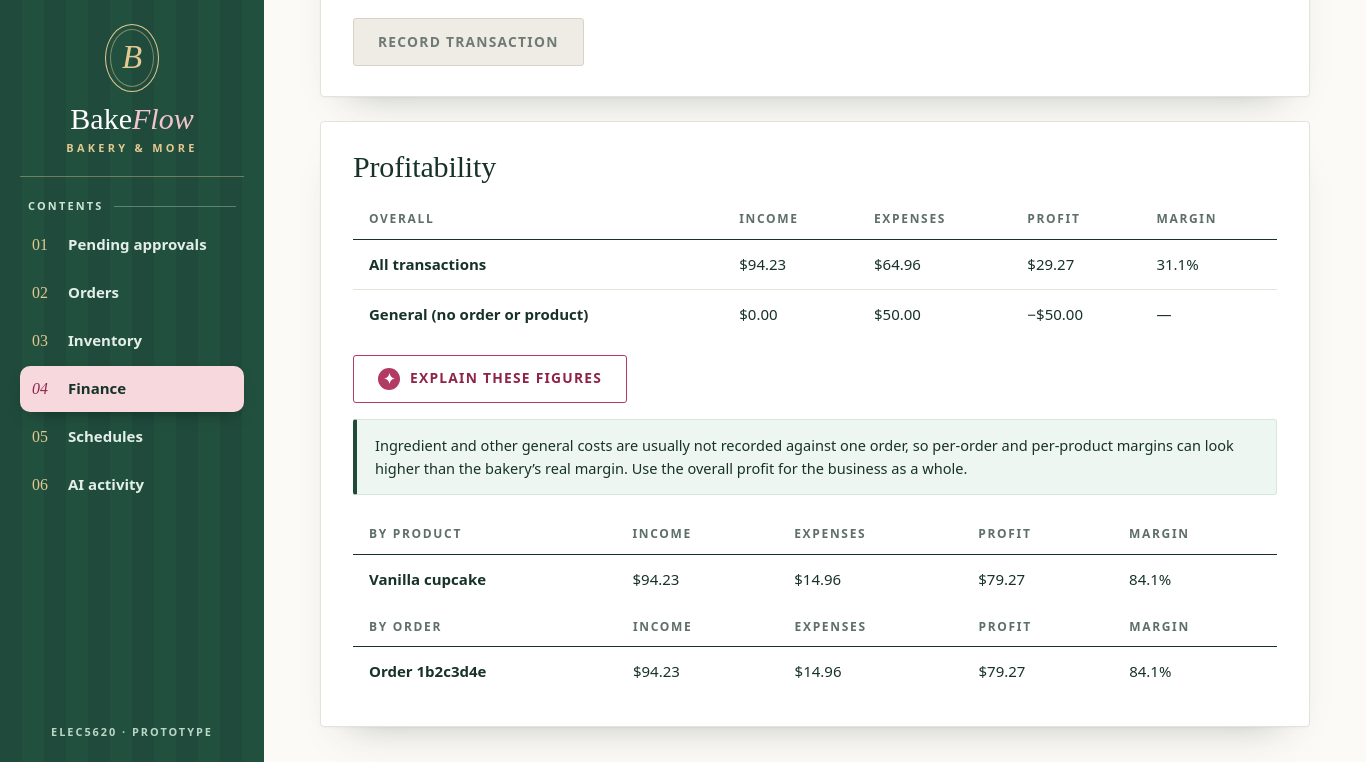
explains the figures only when asked, and keeps them when the explanation fails
This screenshot has width=1366, height=762.
(page scrolled)
expect the row "All transactions $94.23 $64.96 $29.27 31.1%" is shown: met, box [353,240,1277,289]
Click the button "Explain these figures" at (490, 379), box [353,355,627,403]
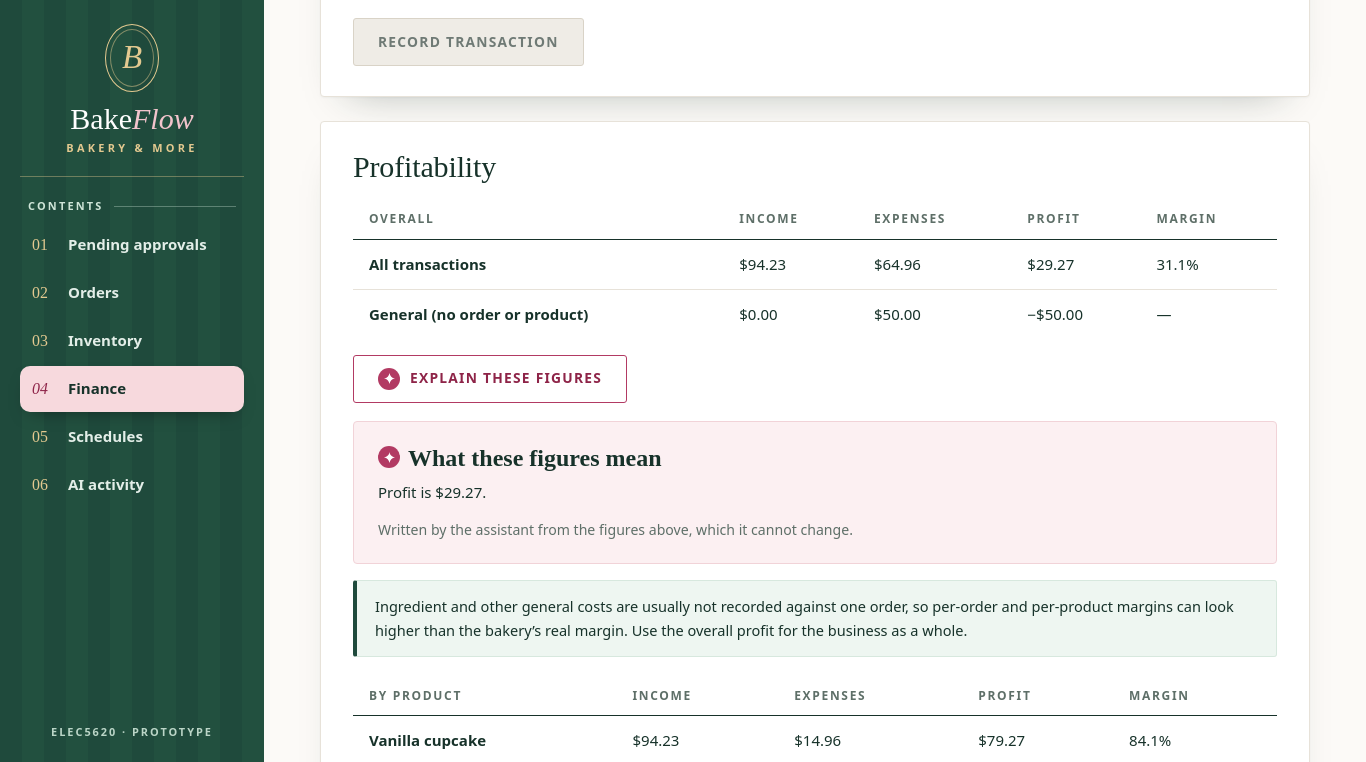
expect the text "Profit is $29.27." is shown: met, box [378,482,486,502]
Click the button "Explain these figures" at (490, 379), box [353,355,627,403]
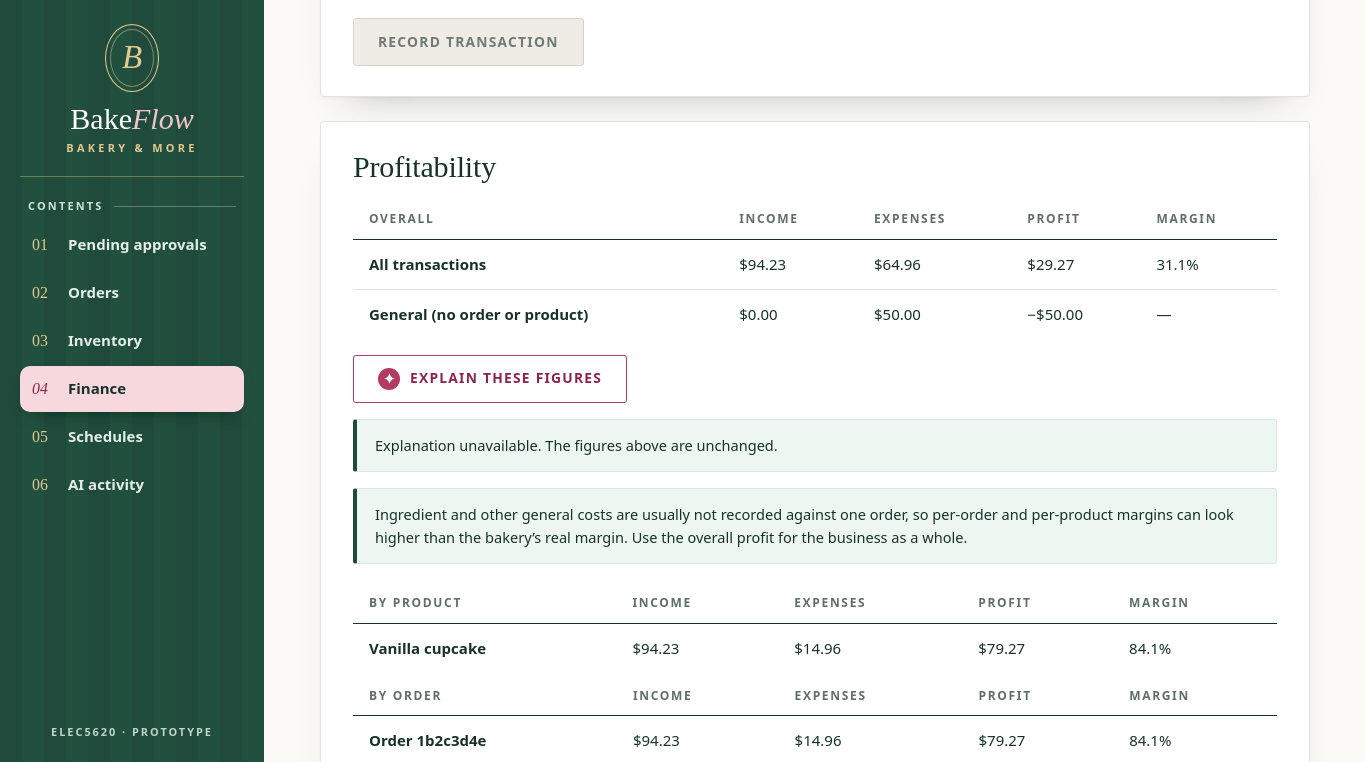
expect the text "$29.27" is shown: met, box [1011,240,1140,289]
expect the text "Explanation unavailable. The figures above are unchanged." is shown: met, box [353,419,1277,472]
expect the text "Profit is $29.27." is gone: met
